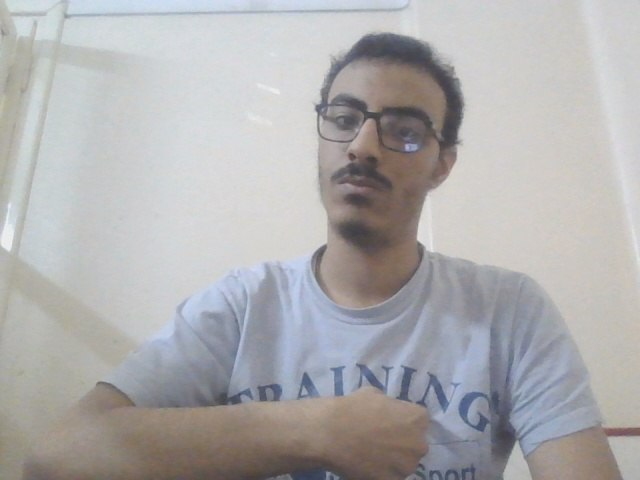Me: (301, 384, 445, 480)
